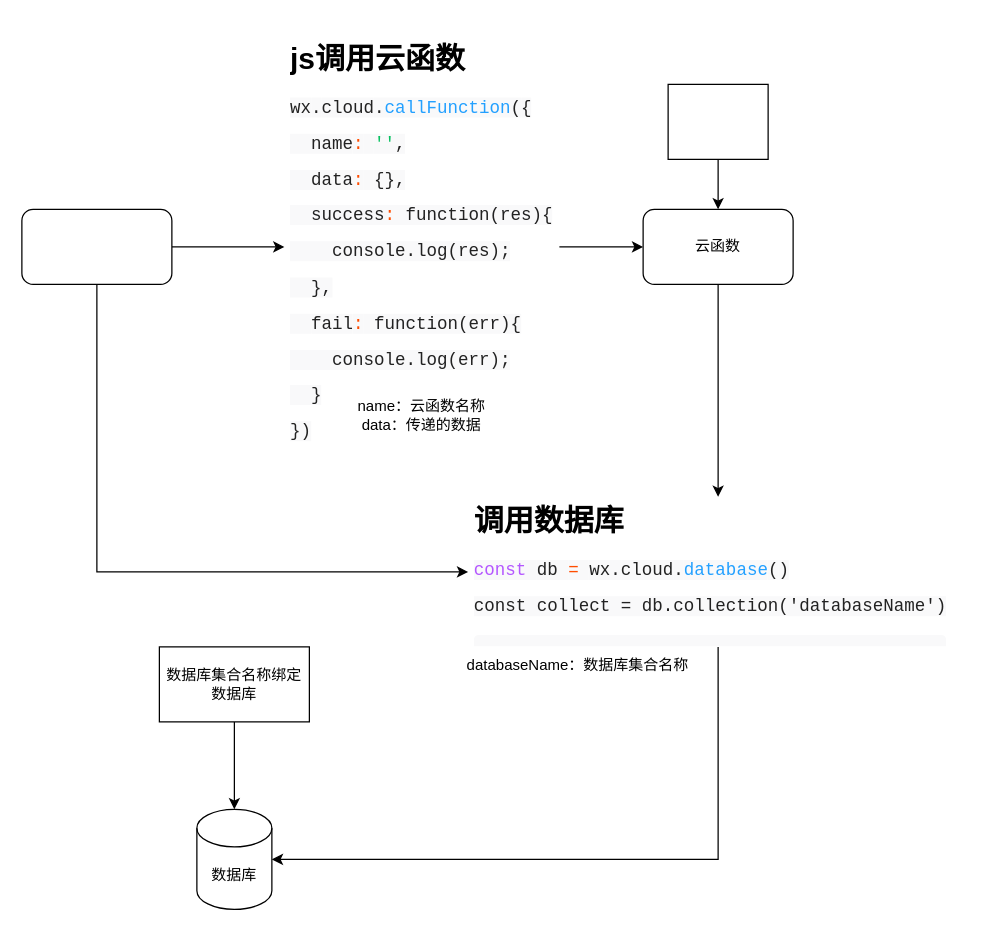
Image size: 990x931. Some labels were removed from this diagram. The shapes that lost their labels are listed below. From the top down, each one's box as (x1, y1, x2, y2) in pixels, then its label:
(667, 83, 768, 159): 云函数名称绑定云函数
(21, 208, 172, 284): js文件
